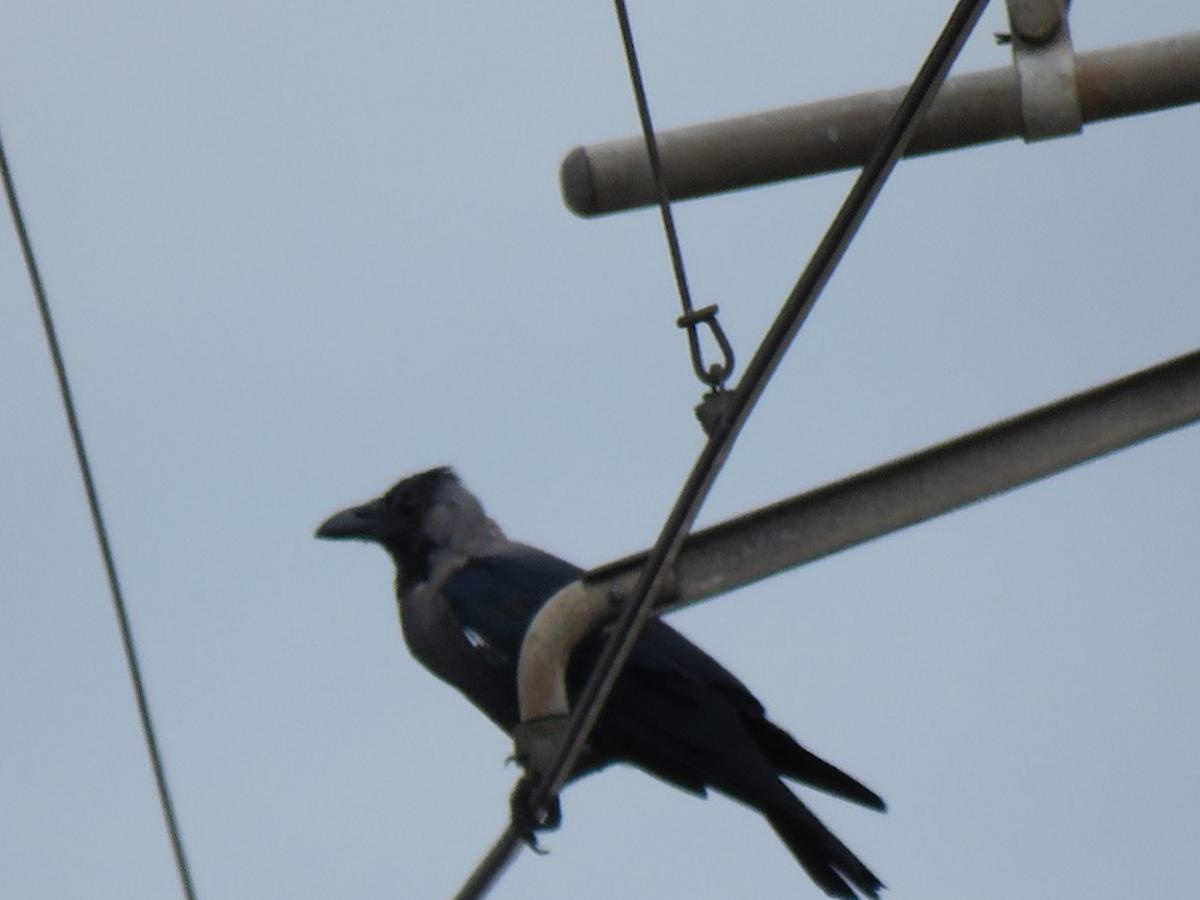crow: (290, 457, 934, 900)
